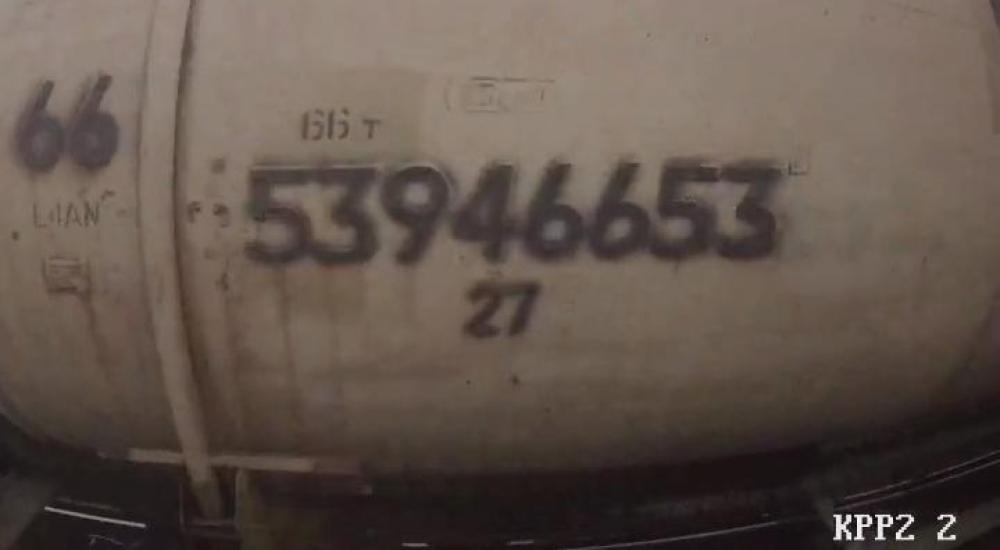Wagon-number: (237, 156, 790, 273)
